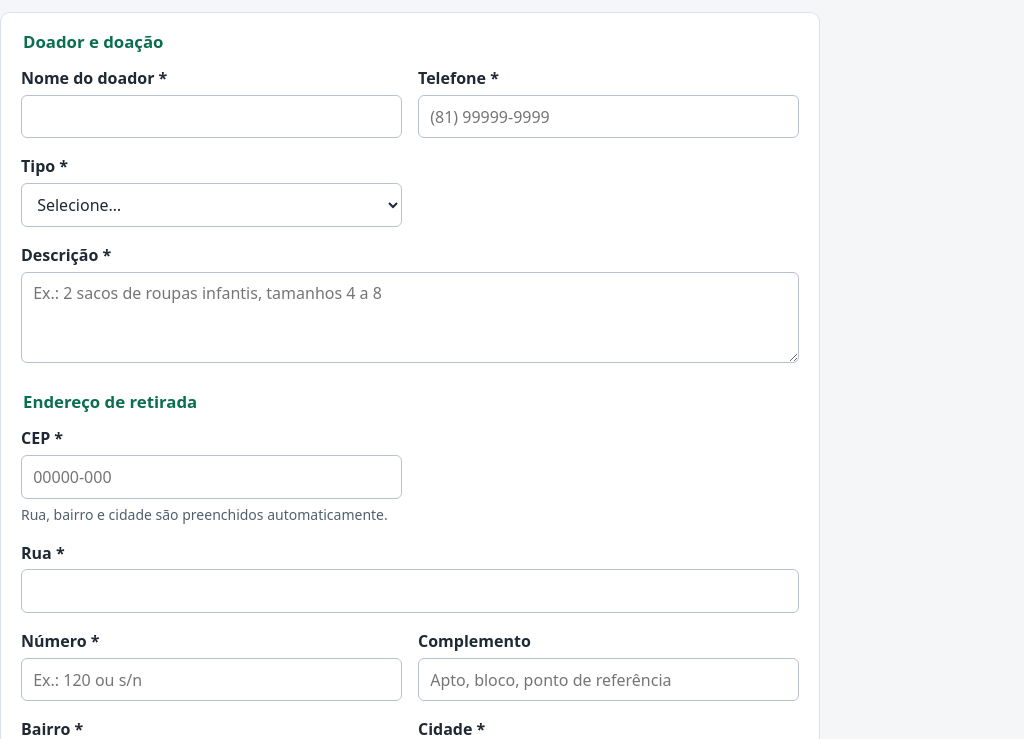
Test: trocar para um CEP não encontrado apaga o endereço do CEP anterior
Type "50030230" into the field labelled "CEP" at (212,477), box [21,455,402,499]
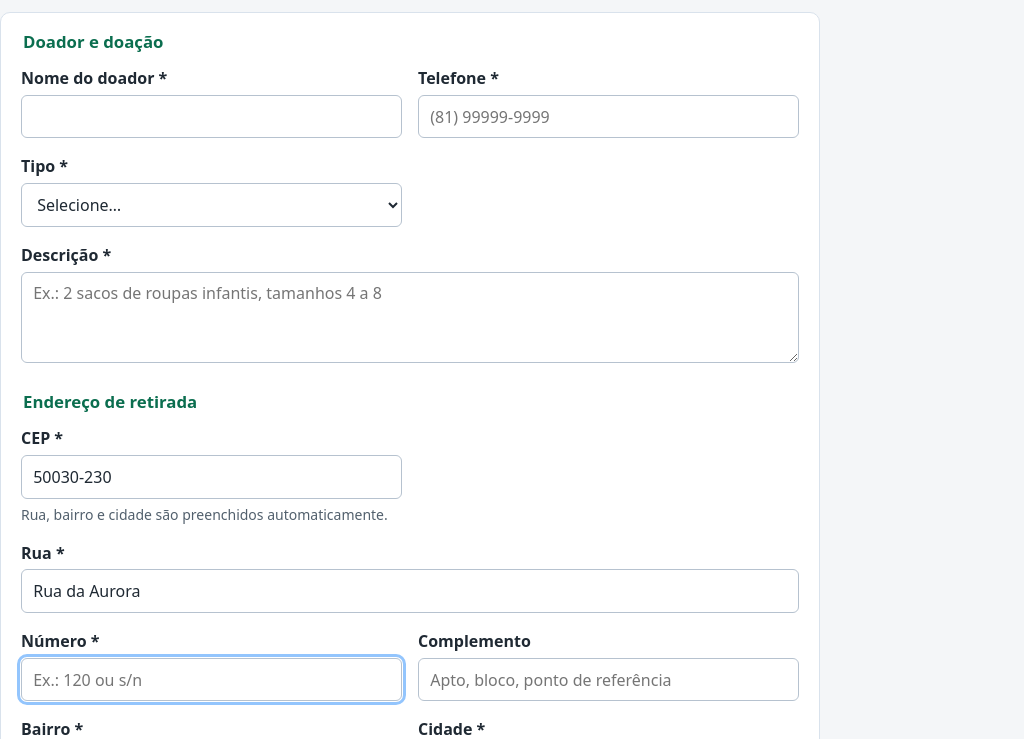
Check: the field labelled "Rua" holds "Rua da Aurora", box [21,569,799,613]
Replace the text in the field labelled "CEP" with "99999999" at (212,477), box [21,455,402,499]
(page scrolled)
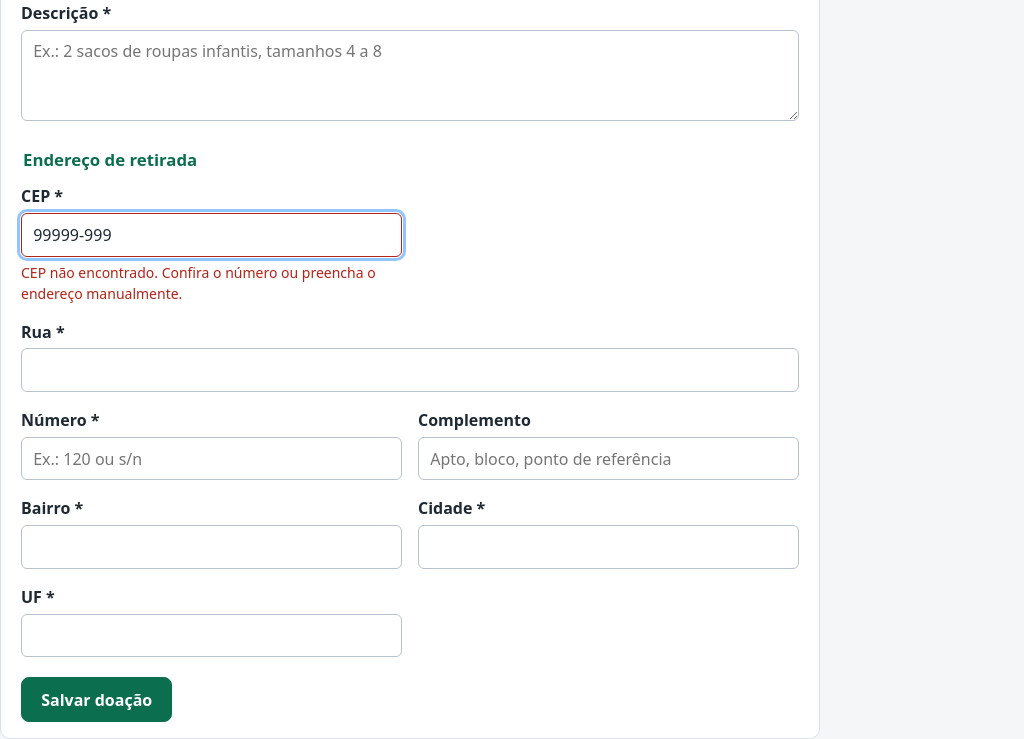
Check: the text "CEP não encontrado. Confira o número ou preencha o endereço manualmente." is shown, box [21,262,402,304]
Check: the field labelled "Rua" is empty, box [21,348,799,392]
Check: the field labelled "Bairro" is empty, box [21,525,402,569]
